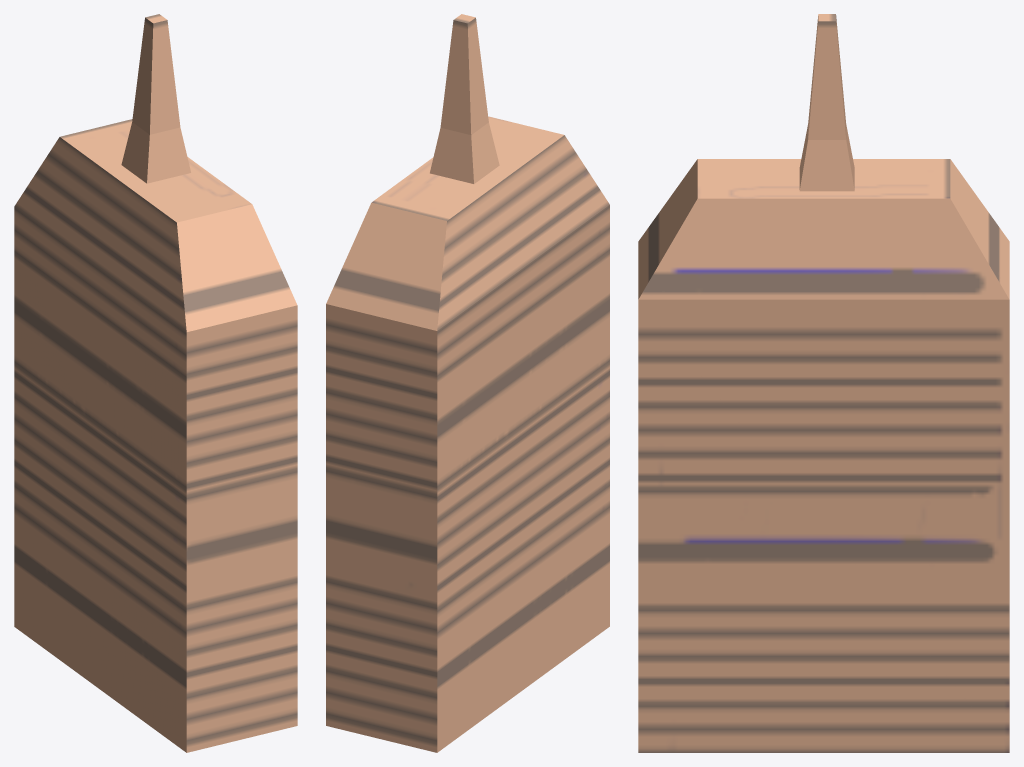
File: SpireBuilding_1_Mesh.fbx
The picture shows the model from 3 angles, left to right: view 1: azimuth 30°, elevation 25°; view 2: azimuth 150°, elevation 25°; view 3: azimuth 270°, elevation 25°; orthographic projection. The views are drawn at different scales.
Visible parts, largest first — view 1: Cube.001; view 2: Cube.001; view 3: Cube.001.
Part boxes in pixels (box(x1,y1,x2,y2)): Cube.001: box(14, 14, 297, 752); Cube.001: box(326, 14, 609, 752); Cube.001: box(638, 14, 1009, 752).
Size of the model in its own units: 335 by 1893 by 900.
1 material, 1 textured.
